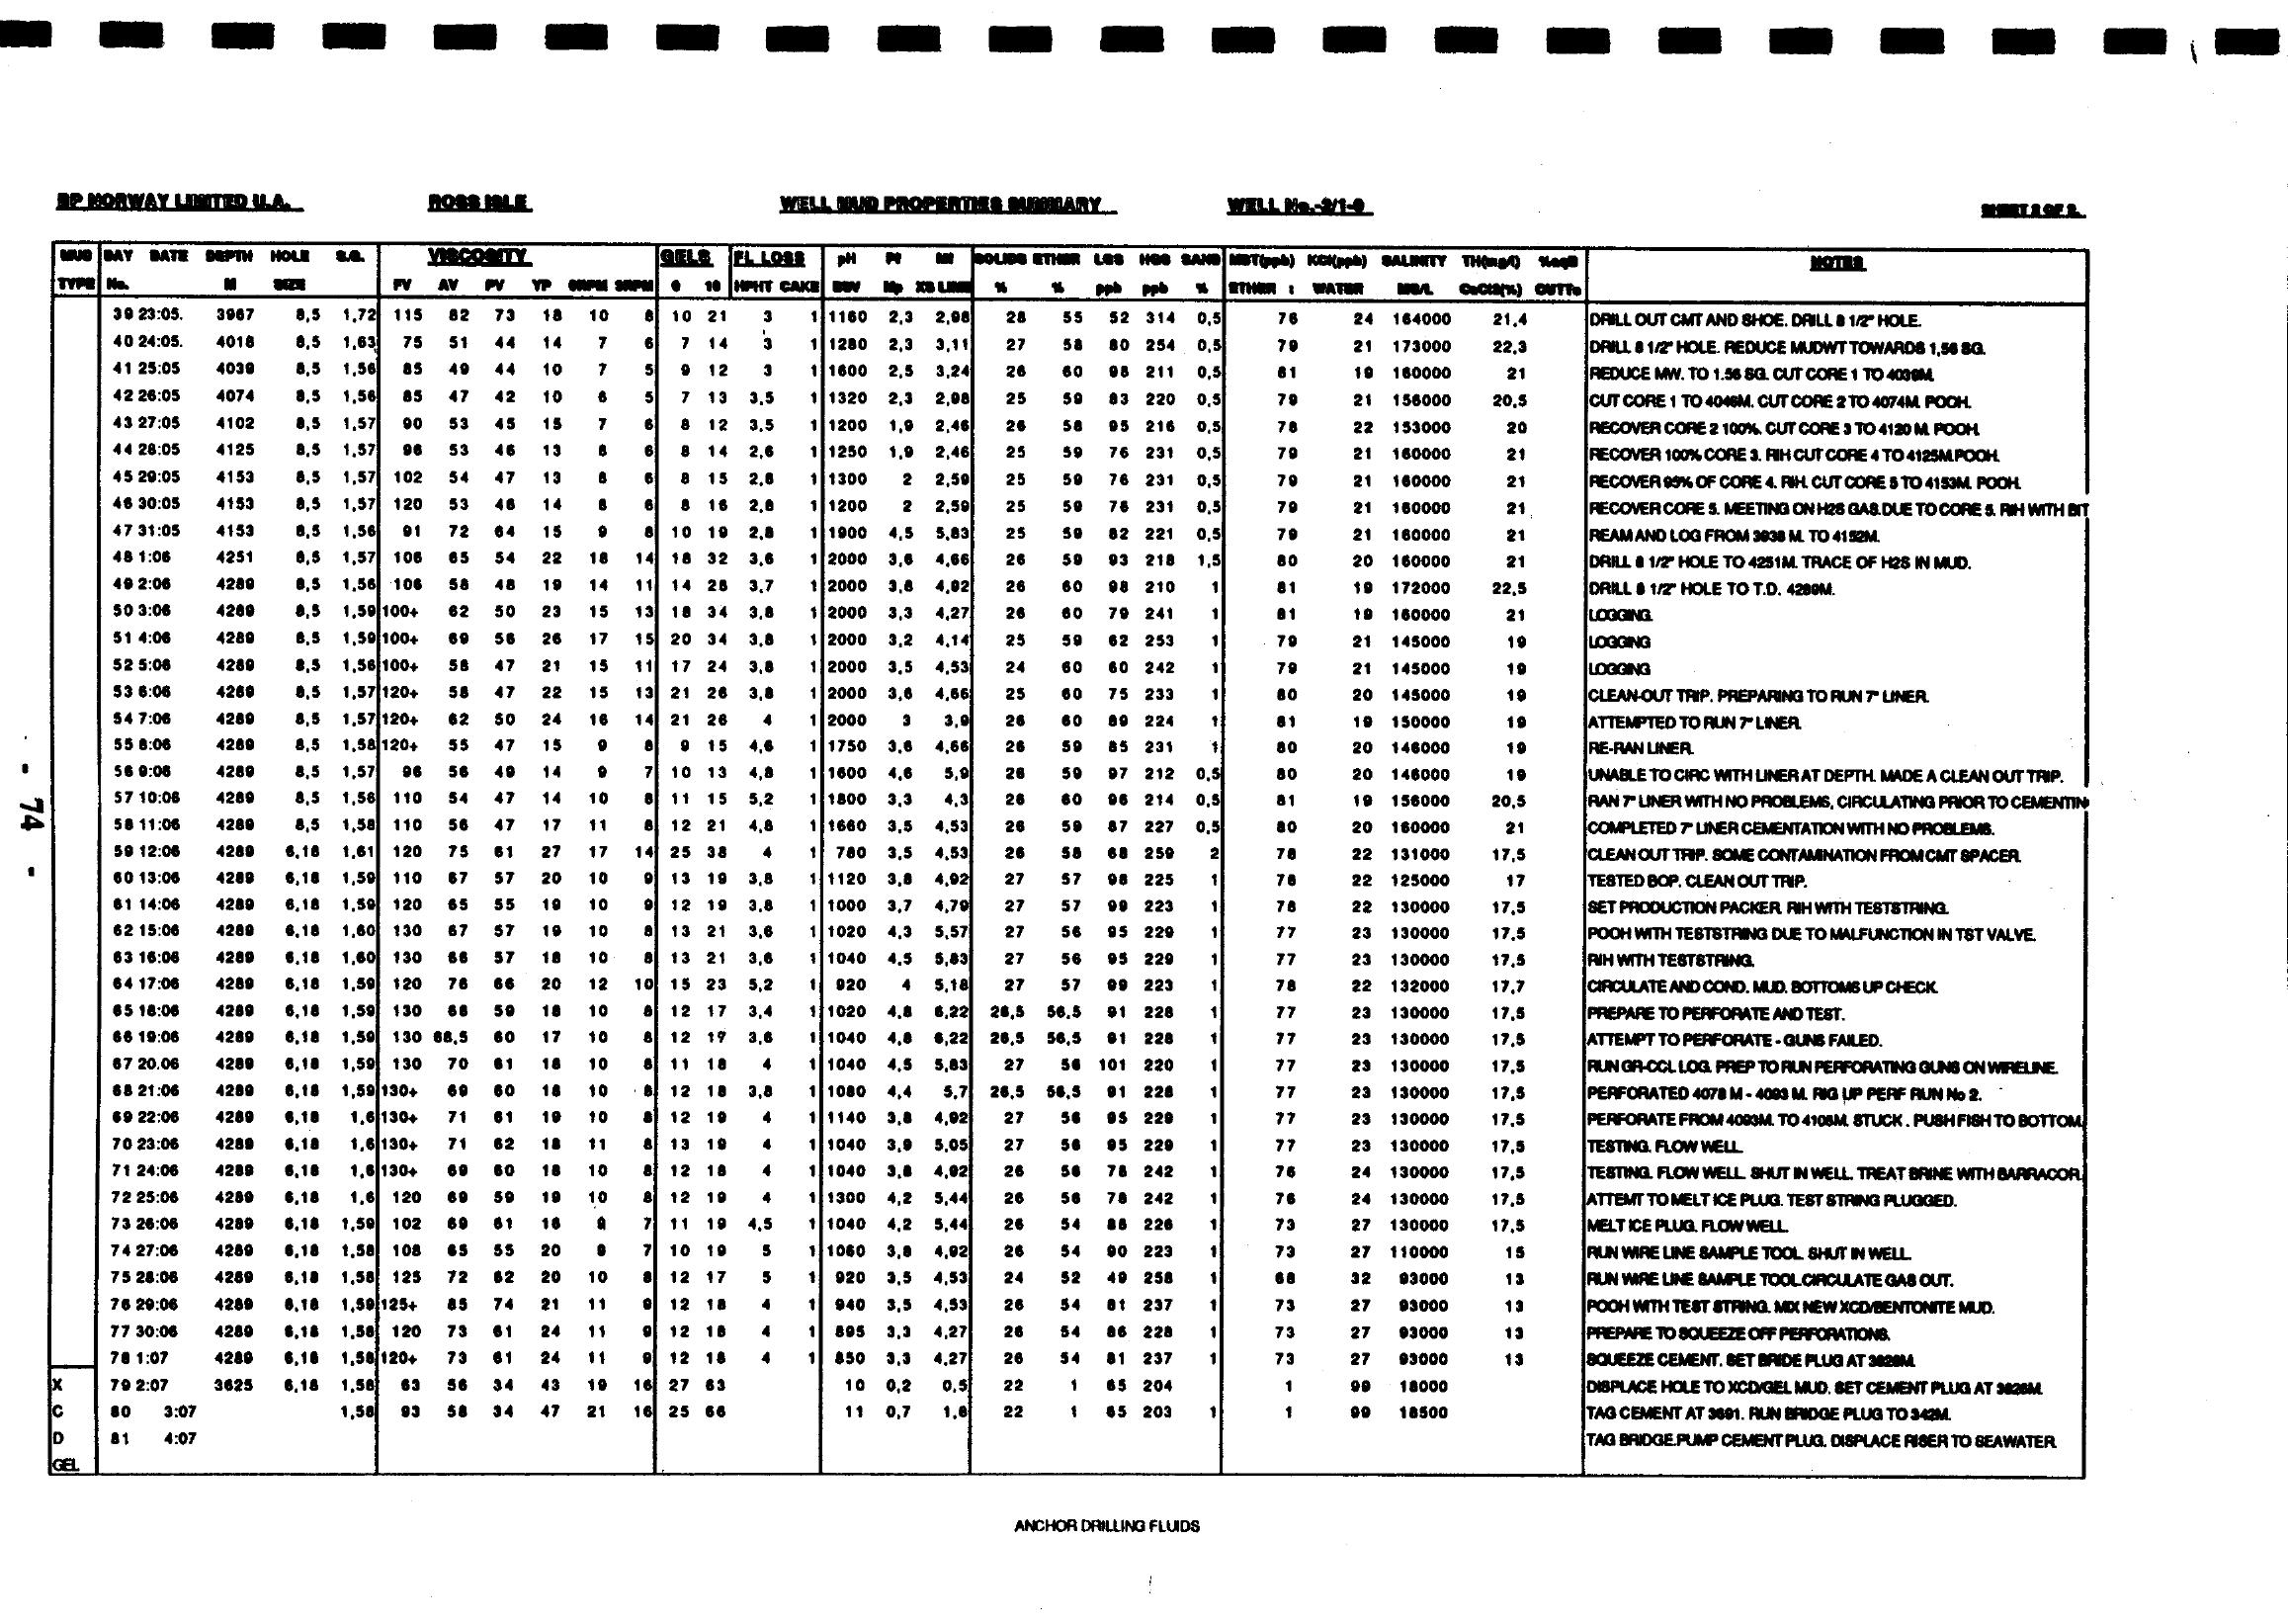table: (46, 178, 2149, 1557)
